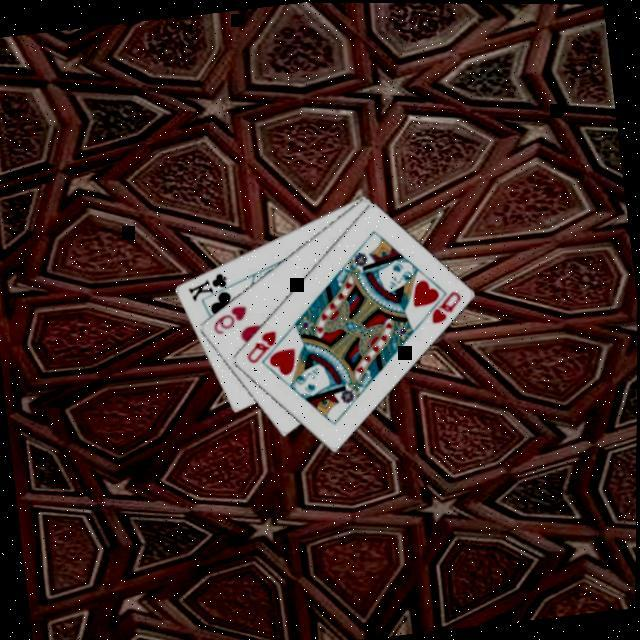6H: (210, 300, 253, 336)
KC: (185, 266, 241, 304)
QH: (416, 284, 468, 326), (242, 324, 284, 366)
